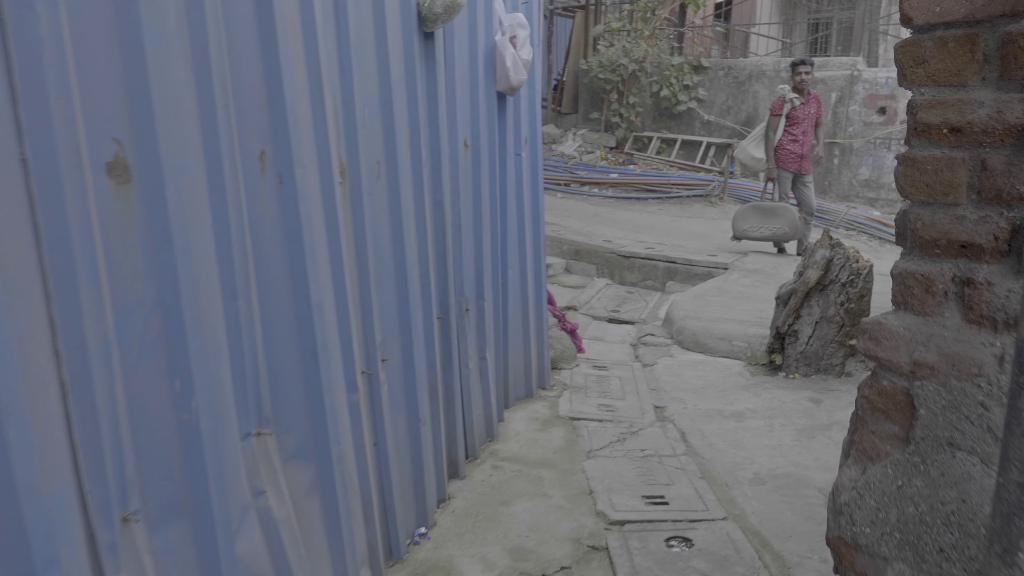garbage: (483, 0, 537, 98)
